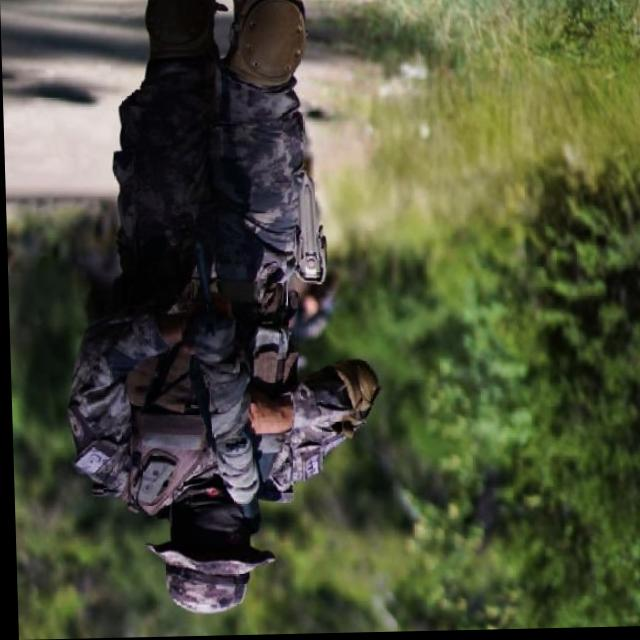poh_personel: (53, 0, 384, 619)
